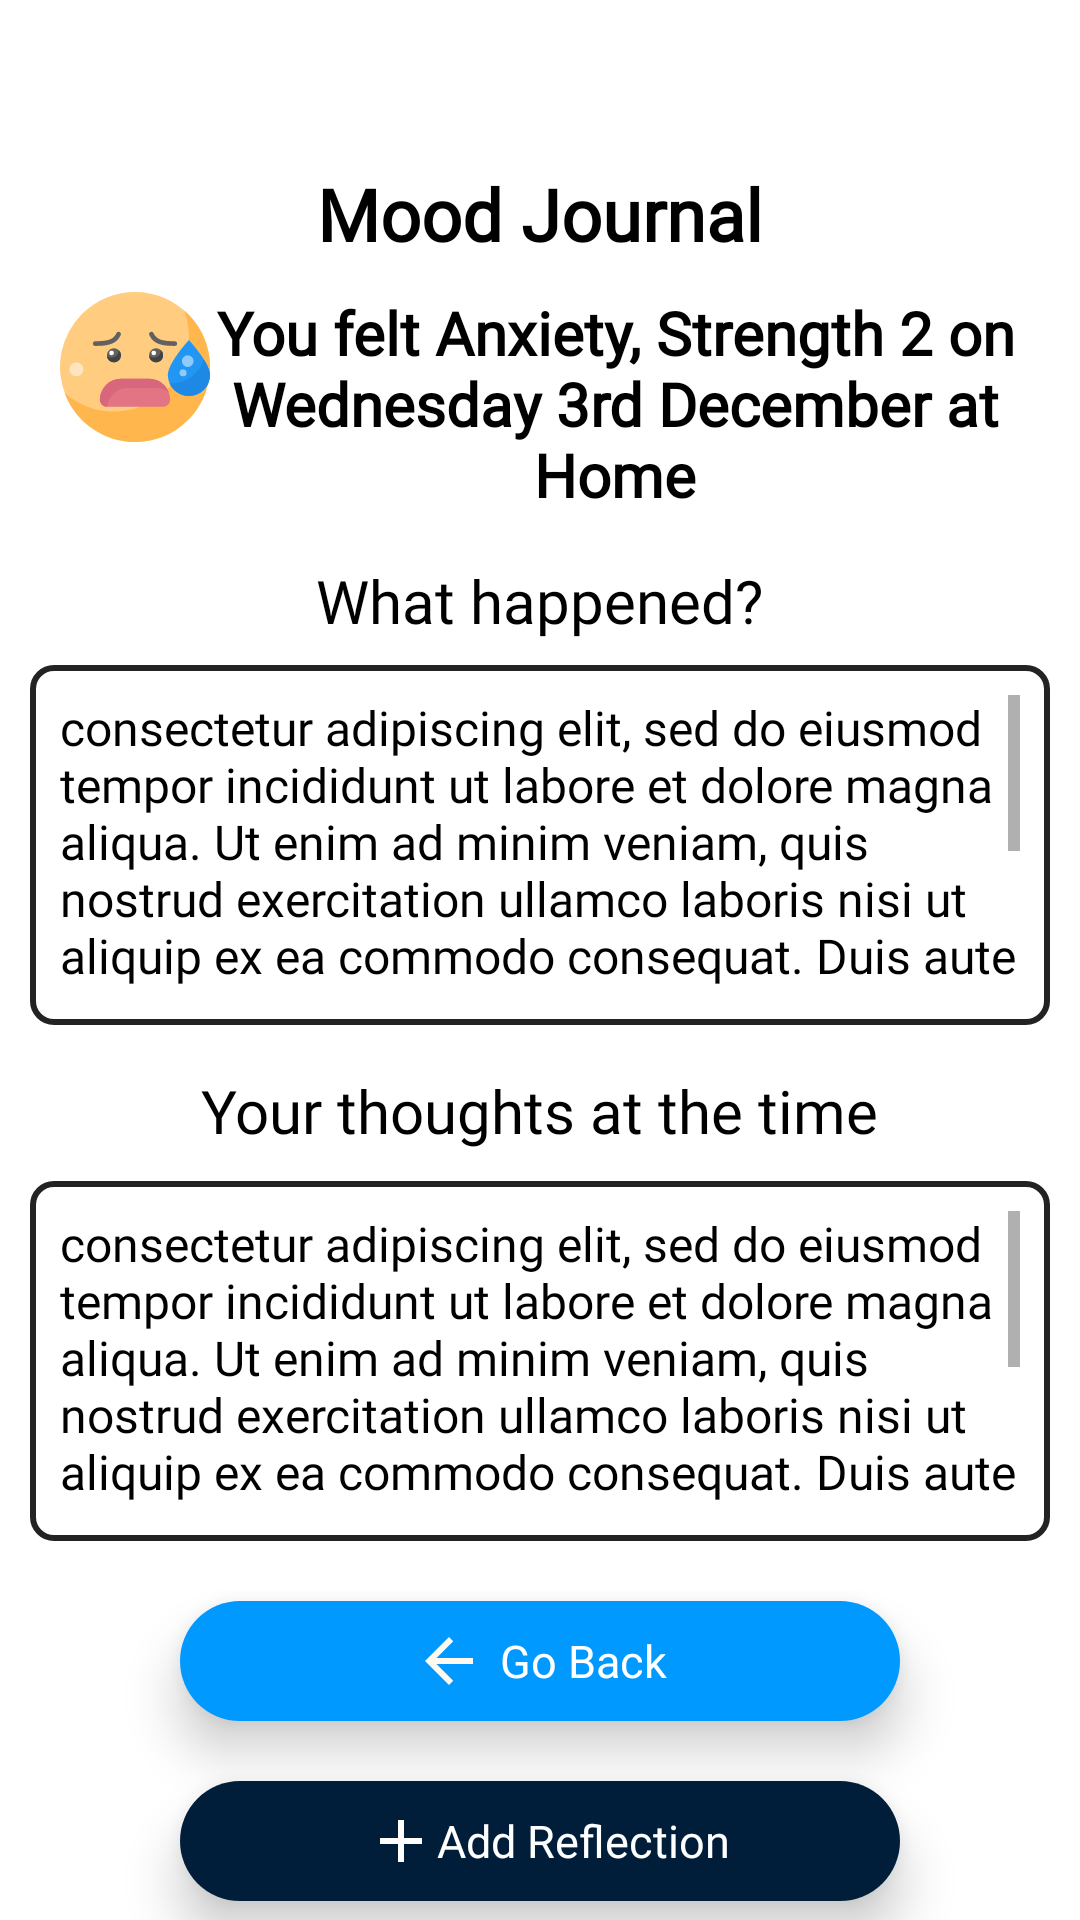

Screen size 1080 × 1920. Icon name, then its center in pixels as (x,y):
anxious: (135,367)
arrow back: (449,1661)
